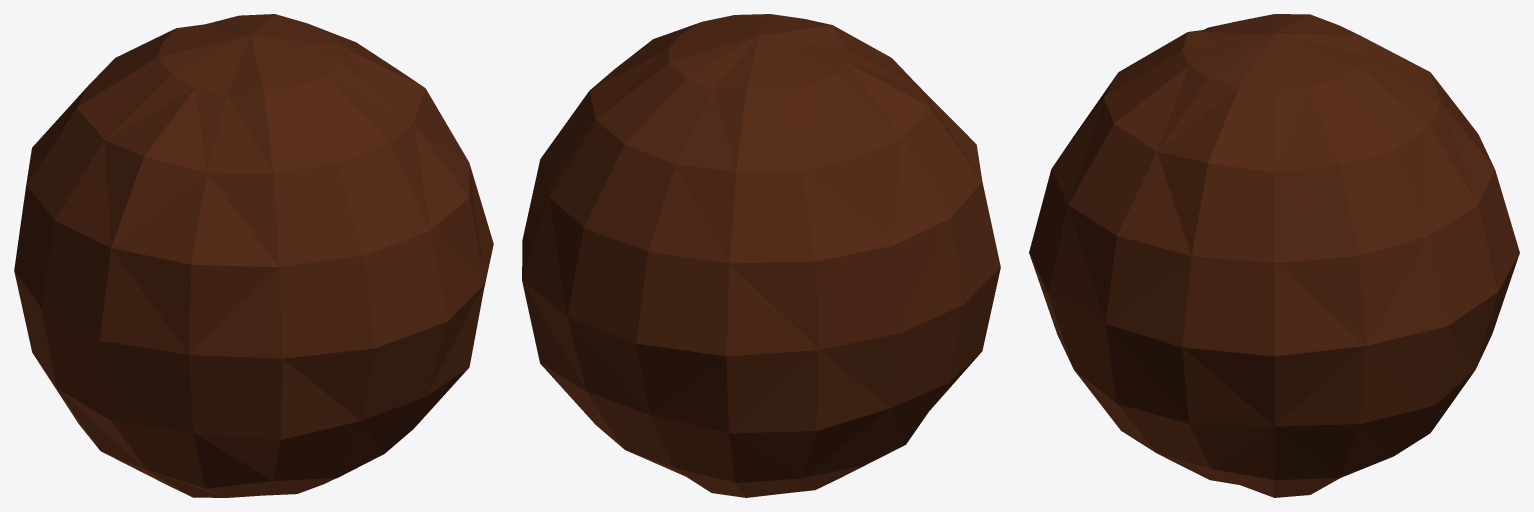
File: bludger.obj
3 views of the same model, side by side, from view 1: azimuth 30°, elevation 25°; view 2: azimuth 150°, elevation 25°; view 3: azimuth 270°, elevation 25° (orthographic).
Visible parts, largest first — view 1: Body; view 2: Body; view 3: Body.
Boxes of the visible parts, <box> form: Body: <box>14,14,493,497</box>; Body: <box>522,14,1000,497</box>; Body: <box>1029,14,1519,497</box>.
Size of the model in its own units: 2 by 2 by 2.03.
